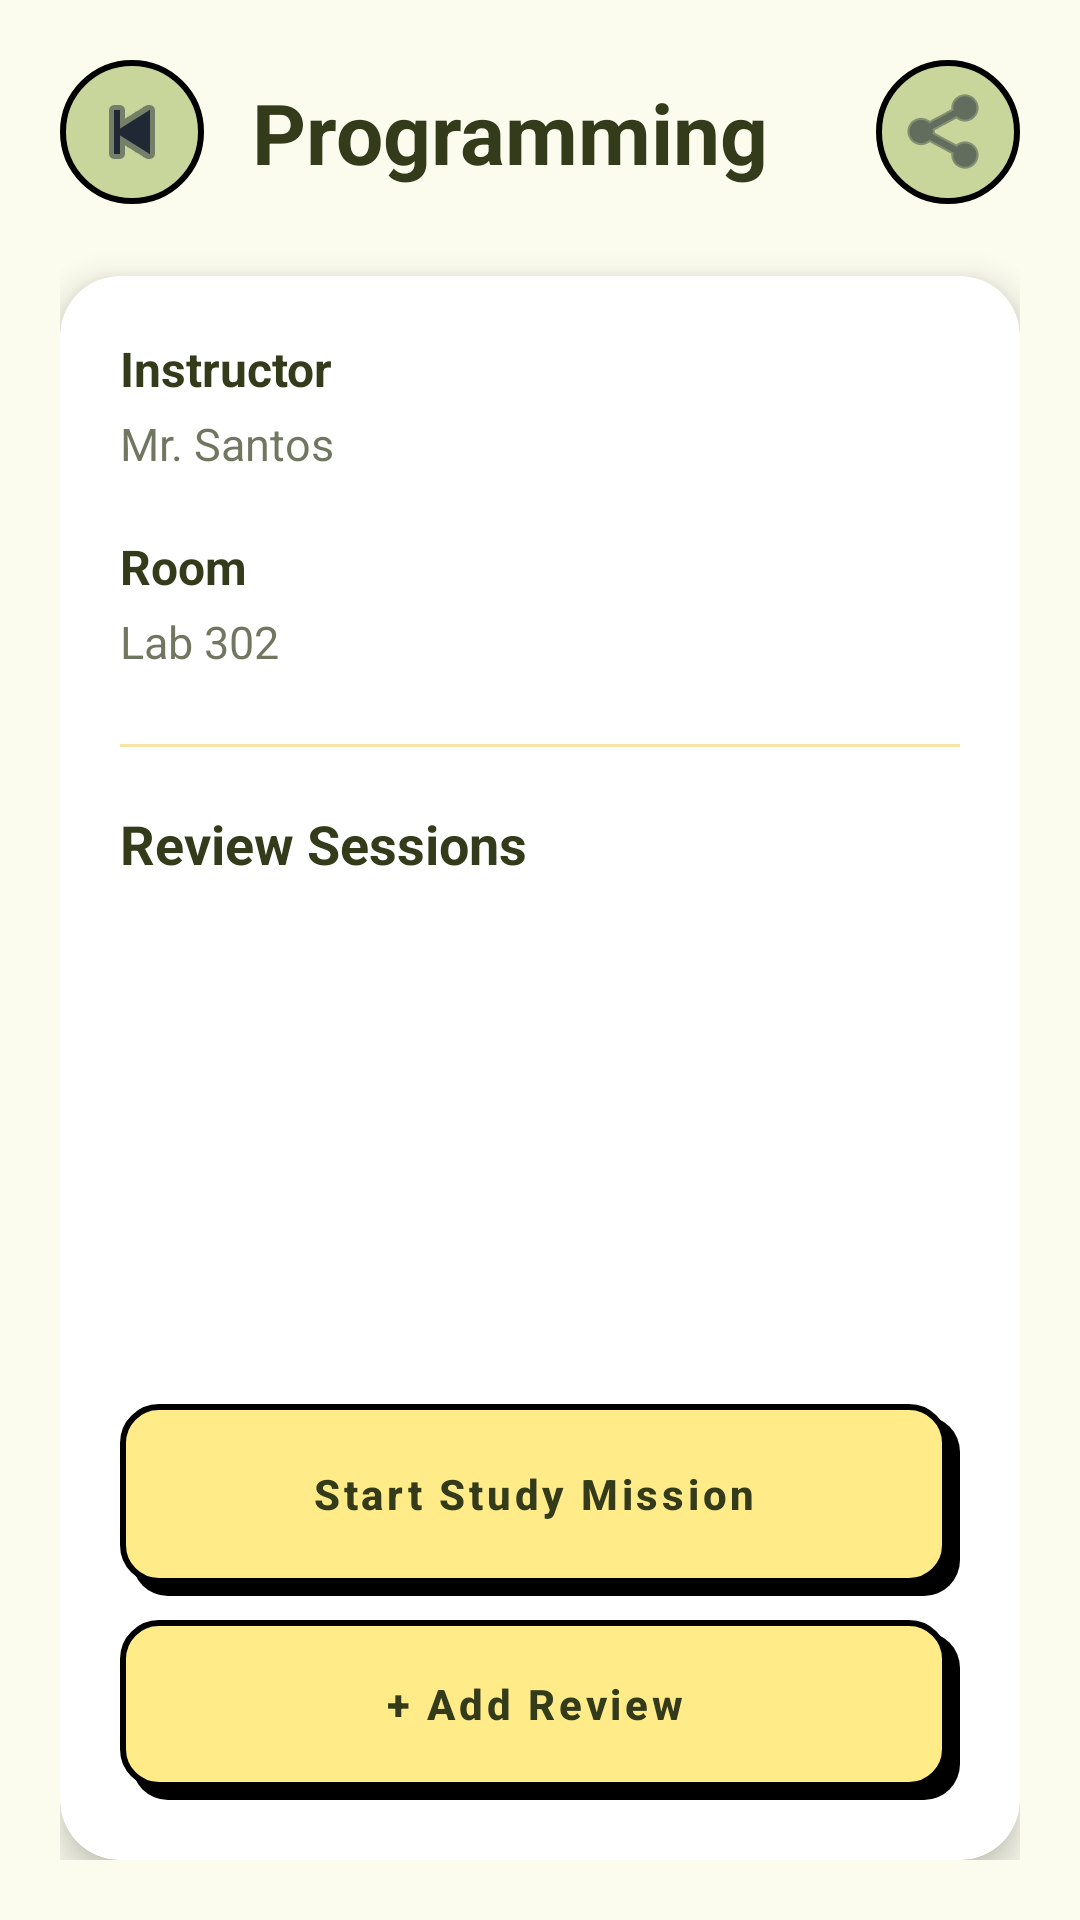

Icon click points for this 1080px×1920px phone screenshot, format point (x, y):
Back: point (132, 132)
Share: point (948, 132)
